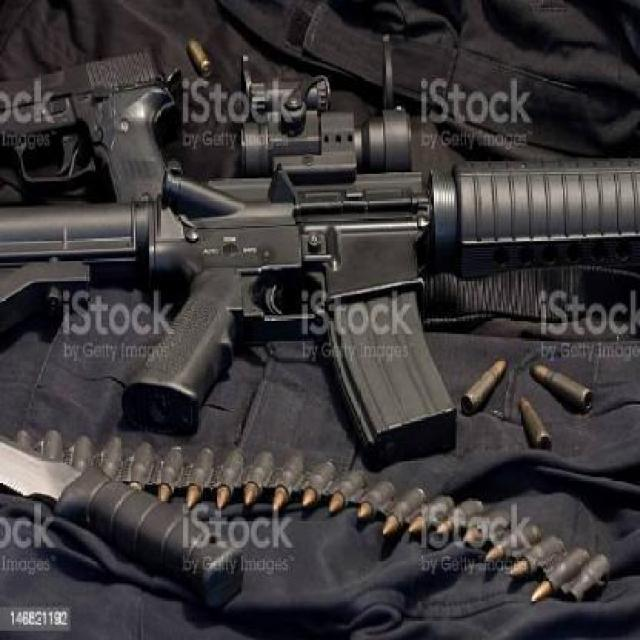Knife: (0, 430, 246, 616)
Pistol: (0, 46, 186, 200)
Rifle: (0, 57, 640, 471)
